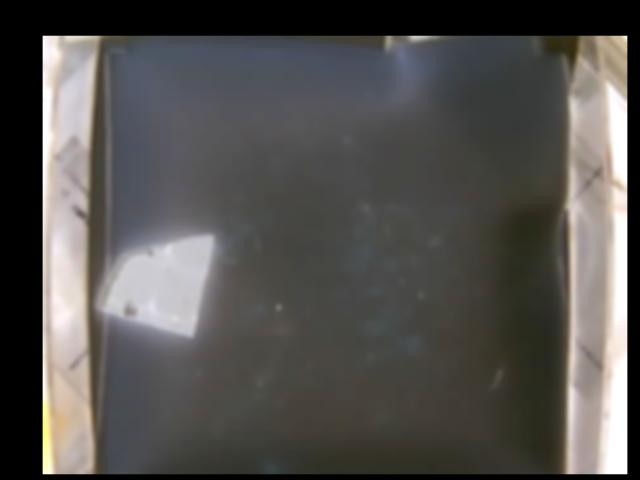China: (98, 225, 211, 337)
